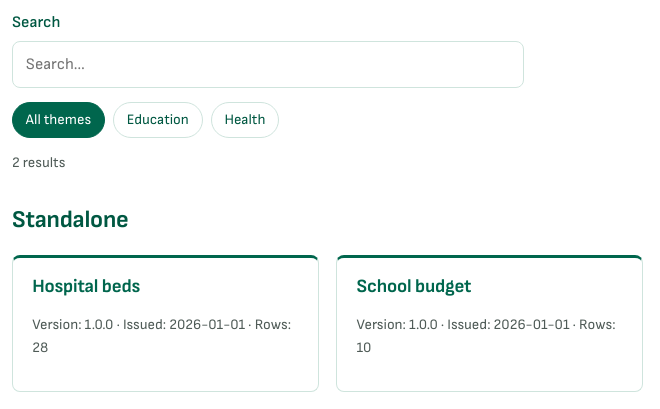
Test: DatasetSearch › filters by theme facet
Click the button "Health". click: (245, 120)
box: x1=211 y1=102 x2=279 y2=138
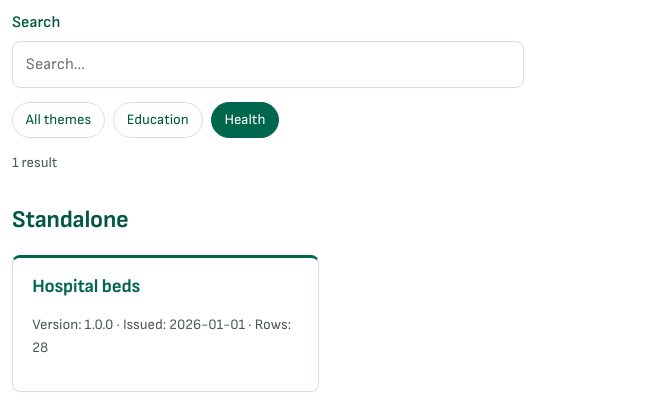
Check: the link "Hospital beds" is shown, box x1=32 y1=275 x2=140 y2=298
Check: the link "School budget" is gone
